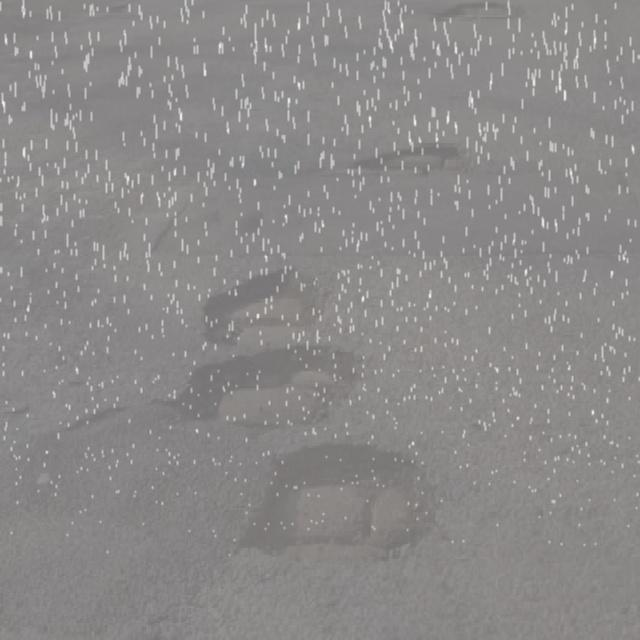Pothole: (219, 433, 443, 580), (148, 339, 372, 435), (177, 262, 336, 352), (339, 139, 477, 185), (54, 397, 127, 441), (432, 0, 531, 31)
